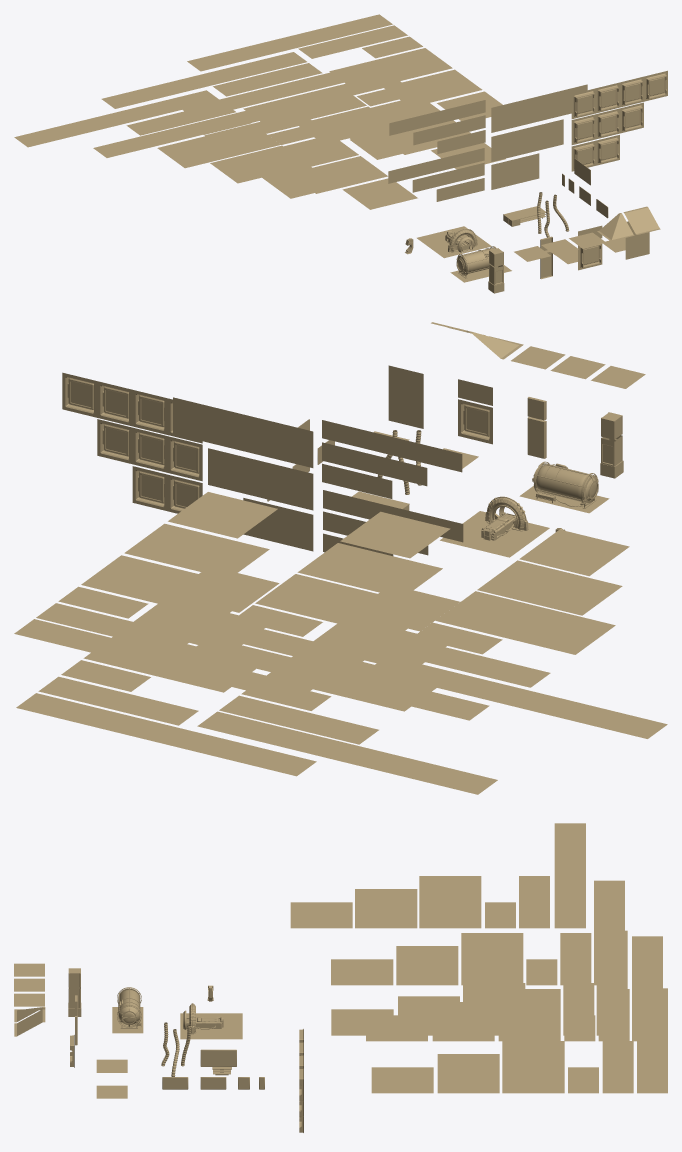
The model's file is Lab_Room.fbx.
3 views of the same model, one above another, from view 1: azimuth 30°, elevation 25°; view 2: azimuth 150°, elevation 25°; view 3: azimuth 270°, elevation 25° (orthographic). The views are drawn at different scales.
Parts seen in each view (by area): view 1: LR_v13_11, LR_v13_23, LR_v13_17, LR_v13_20, LR_v13_14, LR_v13_8, LR_v7_8, LR_v8_5, LR_v13_19, LR_v13_7, LR_v13_13, LR_v7_7 (+36 smaller); view 2: LR_v10_7, LR_v13_17, LR_v13_11, LR_v9_7, LR_v13_23, LR_v13_14, LR_v13_8, LR_v13_20, LR_v8_5, LR_v13_7, LR_v13_13, LR_v13_19 (+42 smaller); view 3: LR_v13_23, LR_v10_4, LR_v13_8, LR_v13_14, LR_v13_20, LR_v13_11, LR_v13_17, LR_v10_3, LR_v13_7, LR_v13_13, LR_v13_19, LR_v10_7 (+22 smaller).
Boxes of the visible parts, bbox=[...] form: LR_v13_11: bbox=[187, 14, 392, 71]; LR_v13_23: bbox=[14, 90, 219, 147]; LR_v13_17: bbox=[101, 52, 306, 108]; LR_v13_20: bbox=[157, 124, 280, 168]; LR_v13_14: bbox=[243, 85, 366, 128]; LR_v13_8: bbox=[329, 48, 452, 91]; LR_v7_8: bbox=[571, 70, 667, 119]; LR_v8_5: bbox=[491, 84, 587, 132]; LR_v13_19: bbox=[210, 145, 309, 183]; LR_v13_7: bbox=[383, 69, 482, 107]; LR_v13_13: bbox=[296, 106, 390, 144]; LR_v7_7: bbox=[571, 102, 643, 144]; LR_v10_7: bbox=[16, 693, 316, 776]; LR_v13_17: bbox=[189, 637, 489, 720]; LR_v13_11: bbox=[14, 619, 314, 702]; LR_v9_7: bbox=[197, 711, 497, 794]; LR_v13_23: bbox=[367, 656, 667, 738]; LR_v13_14: bbox=[255, 574, 435, 637]; LR_v13_8: bbox=[81, 555, 261, 618]; LR_v13_20: bbox=[435, 591, 615, 654]; LR_v8_5: bbox=[173, 397, 313, 467]; LR_v13_7: bbox=[124, 523, 269, 578]; LR_v13_13: bbox=[297, 543, 442, 598]; LR_v13_19: bbox=[477, 560, 622, 615]; LR_v13_23: bbox=[554, 823, 585, 928]; LR_v10_4: bbox=[502, 1041, 564, 1093]; LR_v13_8: bbox=[498, 989, 560, 1041]; LR_v13_14: bbox=[461, 933, 523, 985]; LR_v13_20: bbox=[419, 876, 481, 928]; LR_v13_11: bbox=[632, 936, 662, 1041]; LR_v13_17: bbox=[594, 880, 624, 985]; LR_v10_3: bbox=[437, 1054, 499, 1093]; LR_v13_7: bbox=[432, 1002, 494, 1041]; LR_v13_13: bbox=[396, 946, 458, 985]; LR_v13_19: bbox=[355, 889, 417, 928]; LR_v10_7: bbox=[637, 988, 667, 1093].
Bounding box in the file's own units: 65.74 × 10.98 × 63.21.
